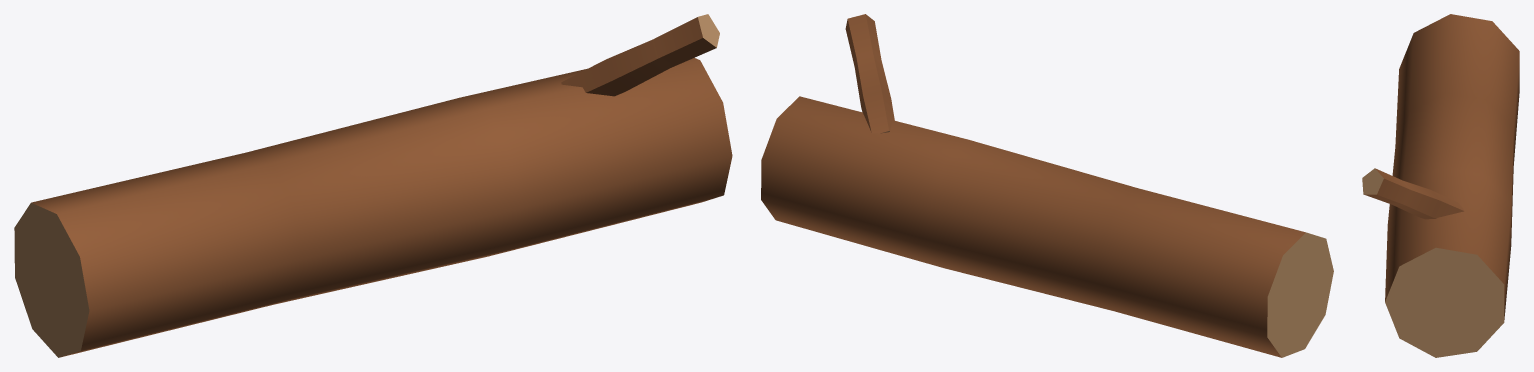
The model's file is log_seat.glb.
The picture shows the model from 3 angles, left to right: view 1: azimuth 30°, elevation 25°; view 2: azimuth 150°, elevation 25°; view 3: azimuth 270°, elevation 25°; orthographic projection. The views are drawn at different scales.
Parts seen in each view (by area): view 1: log_seat; view 2: log_seat; view 3: log_seat.
Boxes of the visible parts, x1,y1,x2,y2 form: log_seat: [14, 14, 732, 357]; log_seat: [761, 14, 1333, 357]; log_seat: [1362, 14, 1519, 357].
Size of the model in its own units: 1.91 by 0.6673 by 0.5309.
